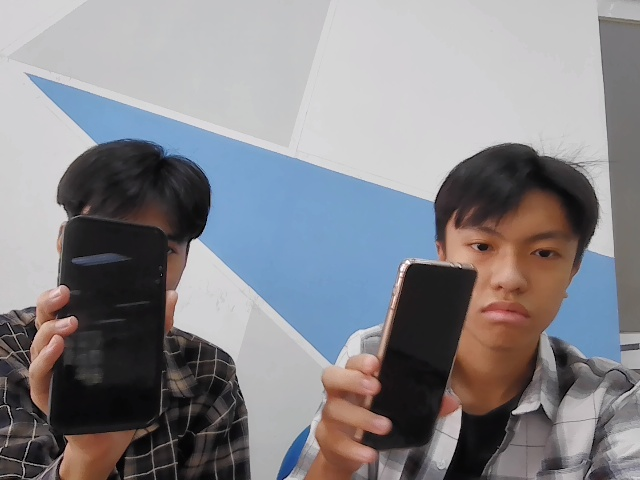human: (435, 137, 601, 346)
phone: (54, 209, 172, 439), (367, 251, 483, 464)
